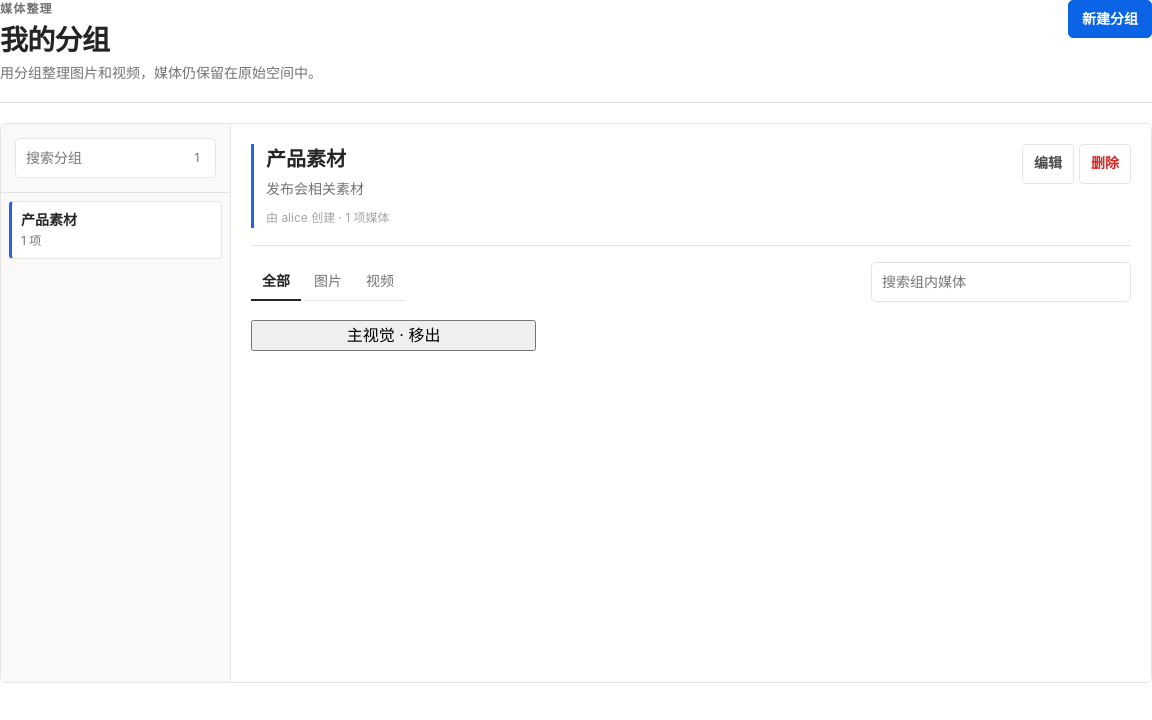
Test: CollectionsView › creates a personal group with the selected color and description
Click the button "新建分组".
click(1110, 19)  # box [1068,0,1151,38]
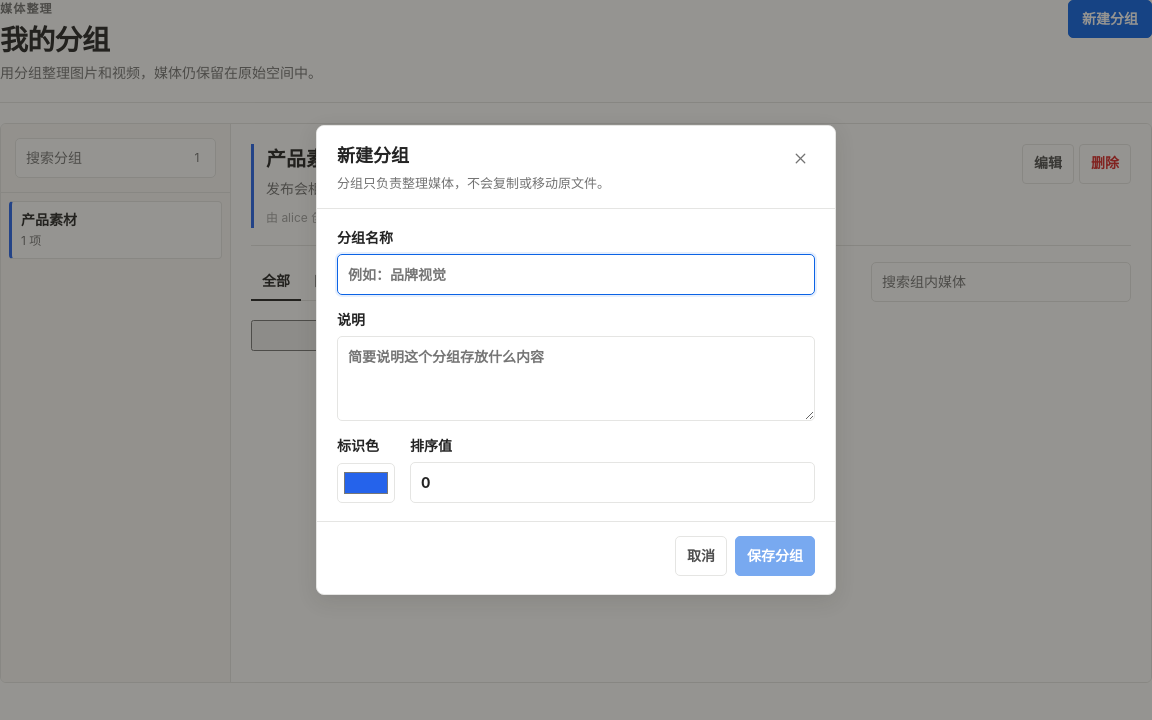
Type "客户案例" into the field labelled "分组名称".
click(576, 275); type("客户案例")  # box [337,254,815,295]
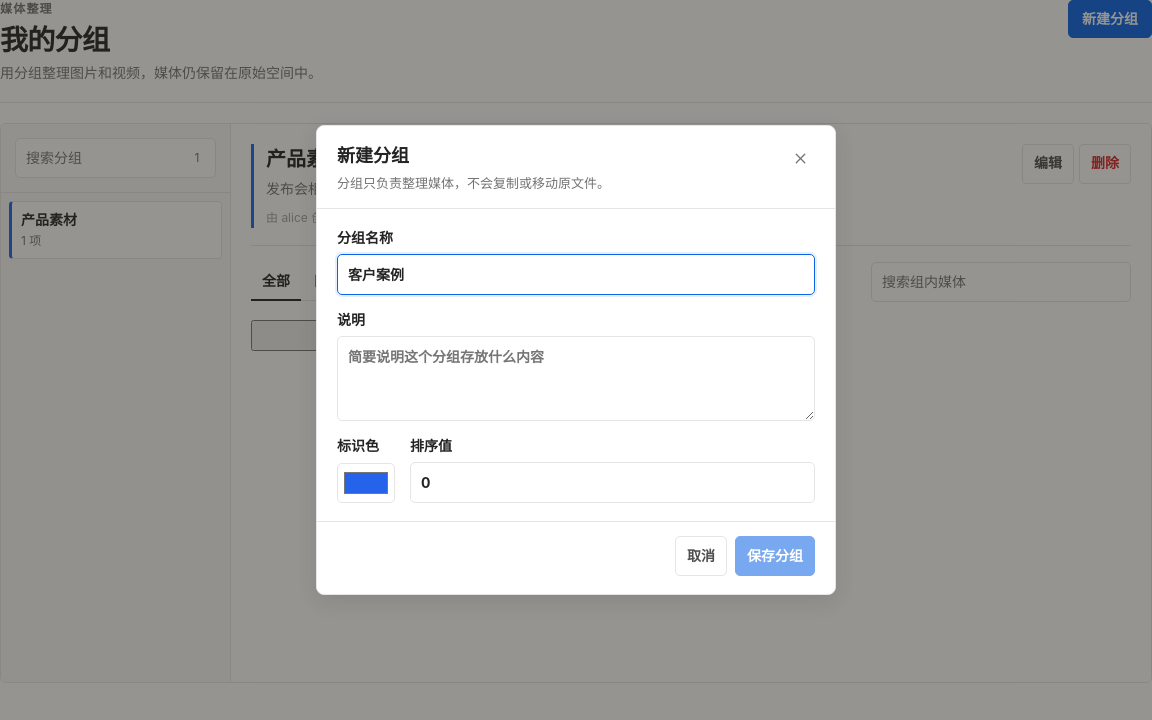
Type "案例视频与截图" into the text box labelled "说明".
click(576, 379); type("案例视频与截图")  # box [337,336,815,421]
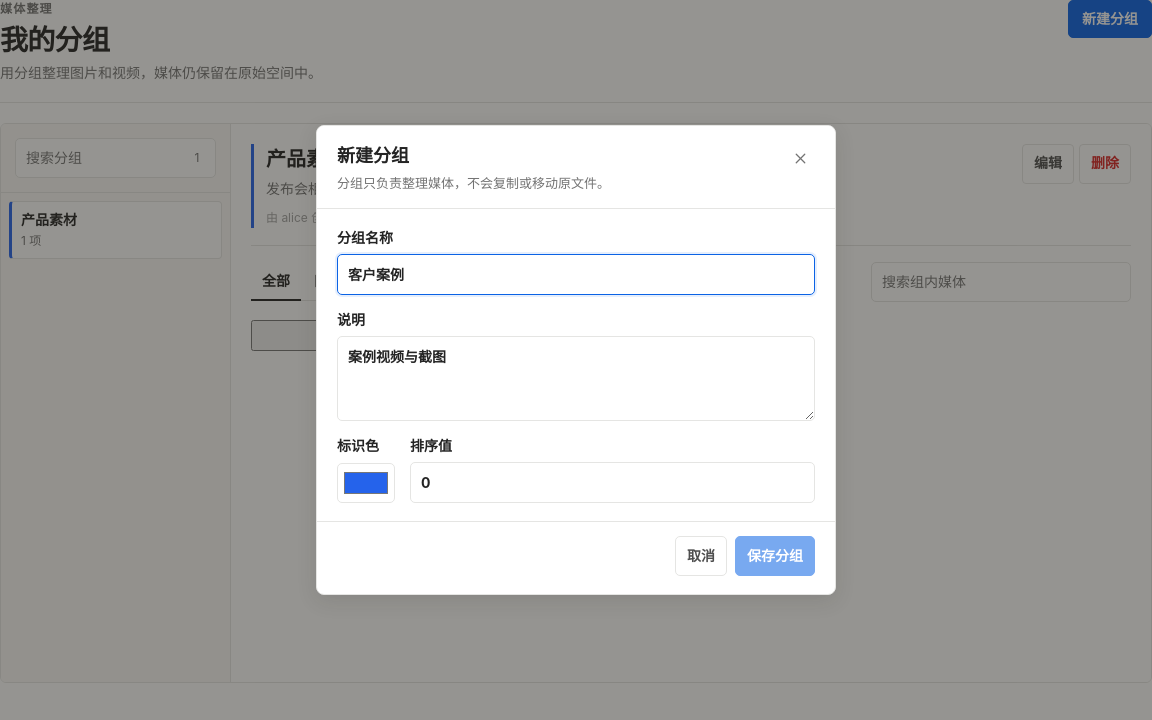
Type "#16835a" into the colour field labelled "标识色".
click(366, 483); type("#16835a")  # box [337,463,395,503]
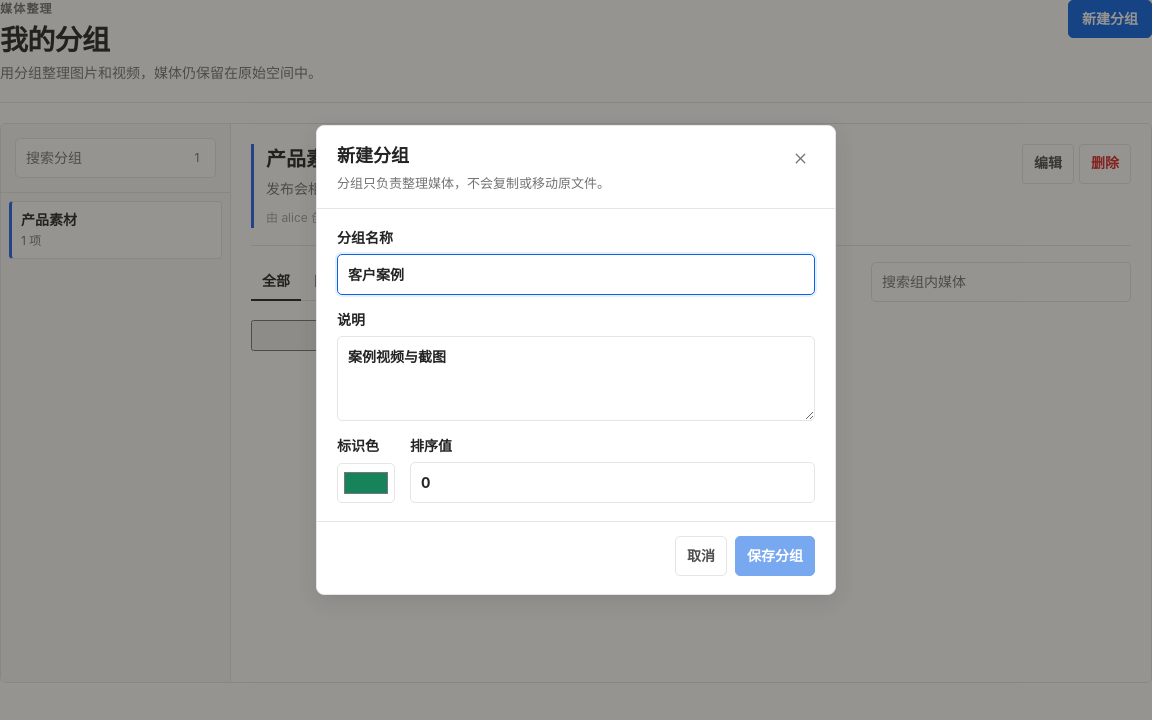
Submit the form, box [337,227,815,504]
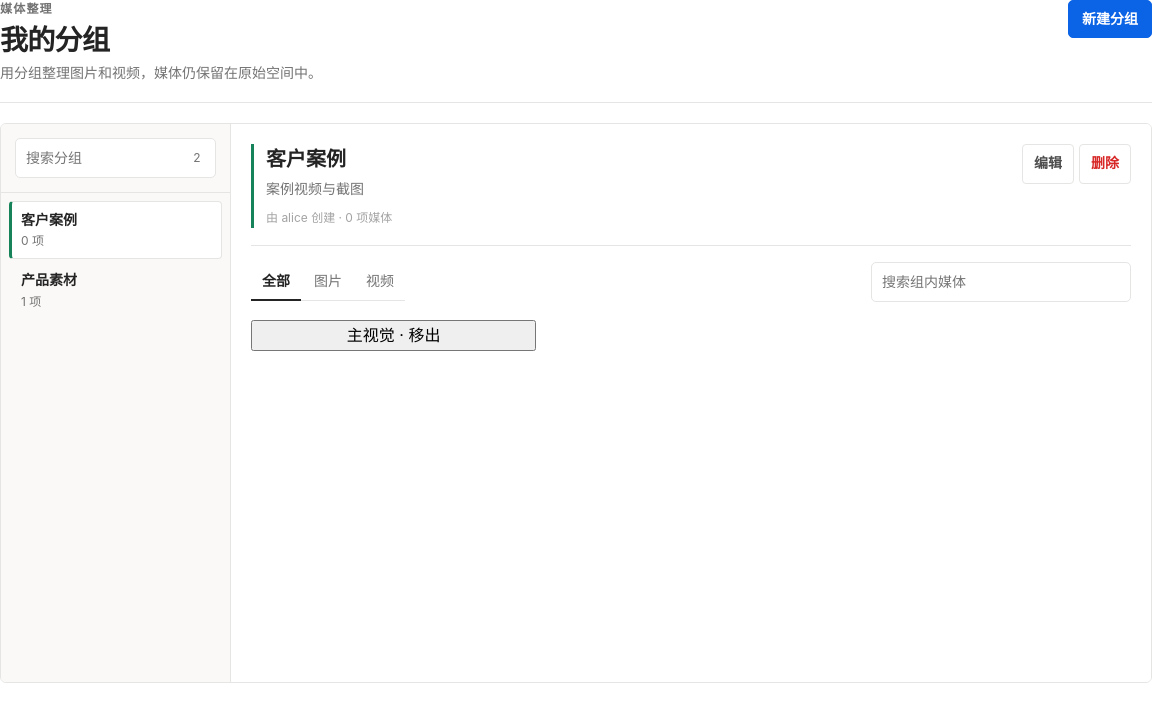
Check: the text "客户案例" is shown, box [21,211,77,228]
